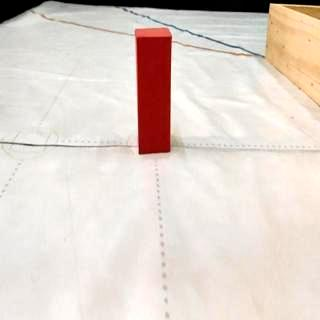redbox: (134, 28, 172, 154)
